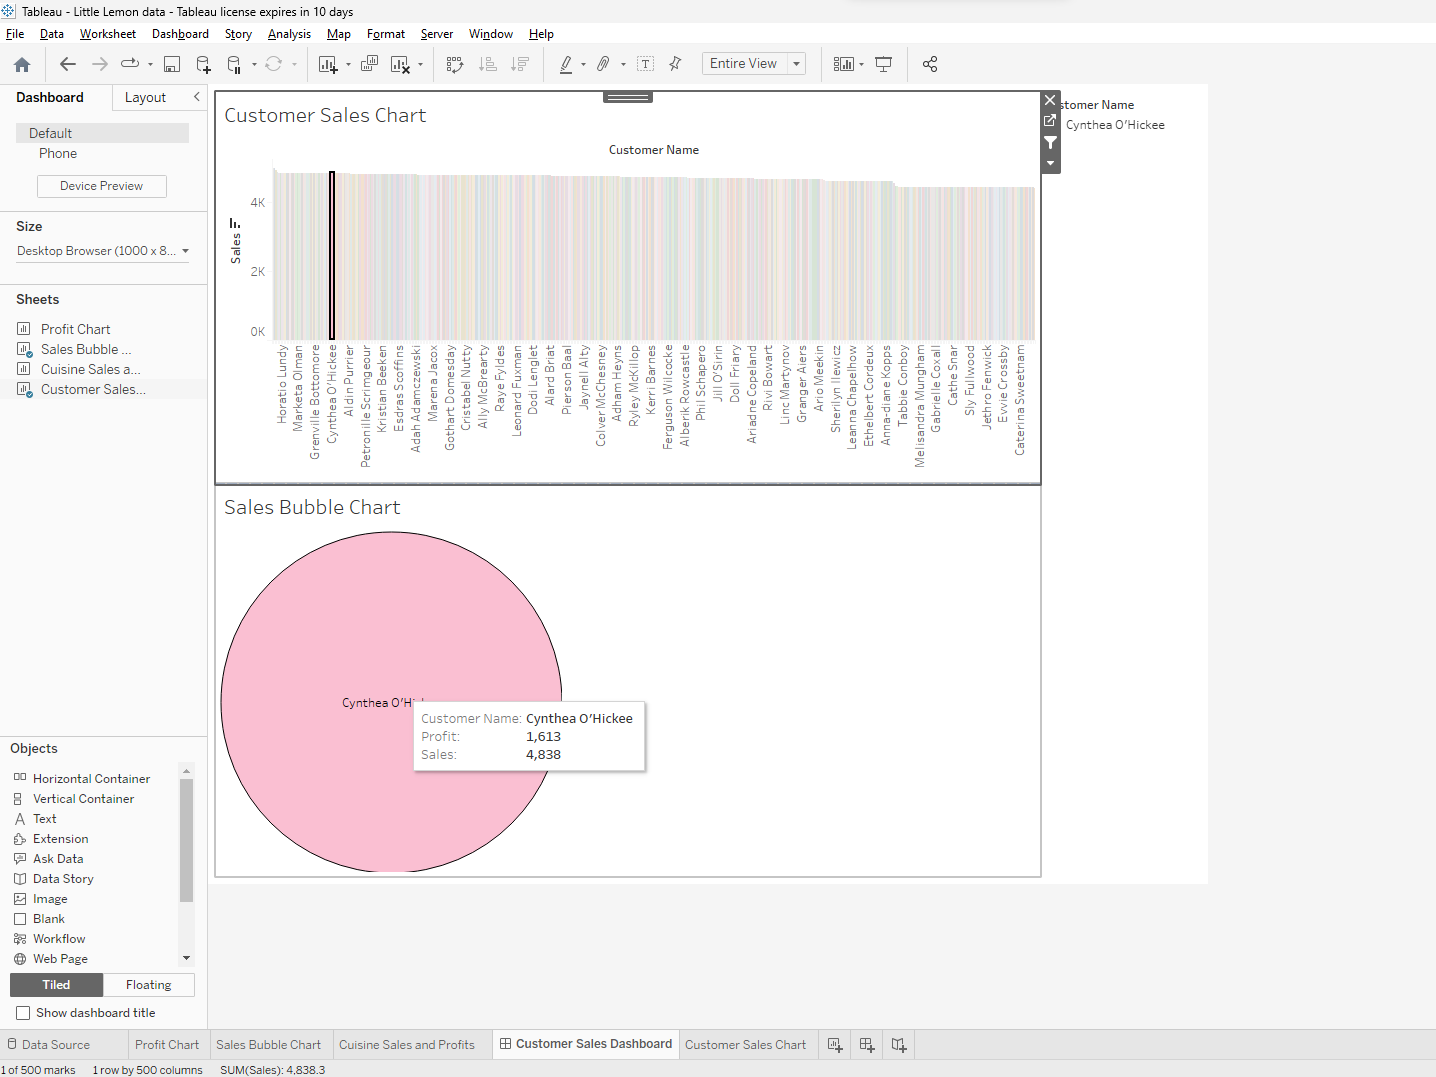

The dashboard page shown, as its layout file describes it:
{"tool":"tableau","page":{"name":"Customer Sales Dashboard","canvas":[1000,800],"ordinal":0},"visuals":[{"type":"worksheet","title":"Customer Sales Chart","mark":"Automatic","rows":["Sales"],"cols":["Customer Name"],"box":[8,8,824,392]},{"type":"legend","title":"Sales Bubble Chart","param":"[federated.13xkqty16qs5mi174x8t2190knfs].[none:Customer Name:nk]","box":[832,8,160,46]},{"type":"worksheet","title":"Sales Bubble Chart","mark":"Circle","box":[8,400,824,392]}]}

Visuals, with their boxes on the page's 1000x800 design canvas (x1, y1, x2, y2). These are canvas units, not pixel positions in the 1436x1077 screenshot, which may show the page scaled, cropped or inside an application window:
"Customer Sales Chart" worksheet: bbox(8, 8, 832, 400)
"Sales Bubble Chart" legend: bbox(832, 8, 992, 54)
"Sales Bubble Chart" worksheet (Circle marks): bbox(8, 400, 832, 792)
